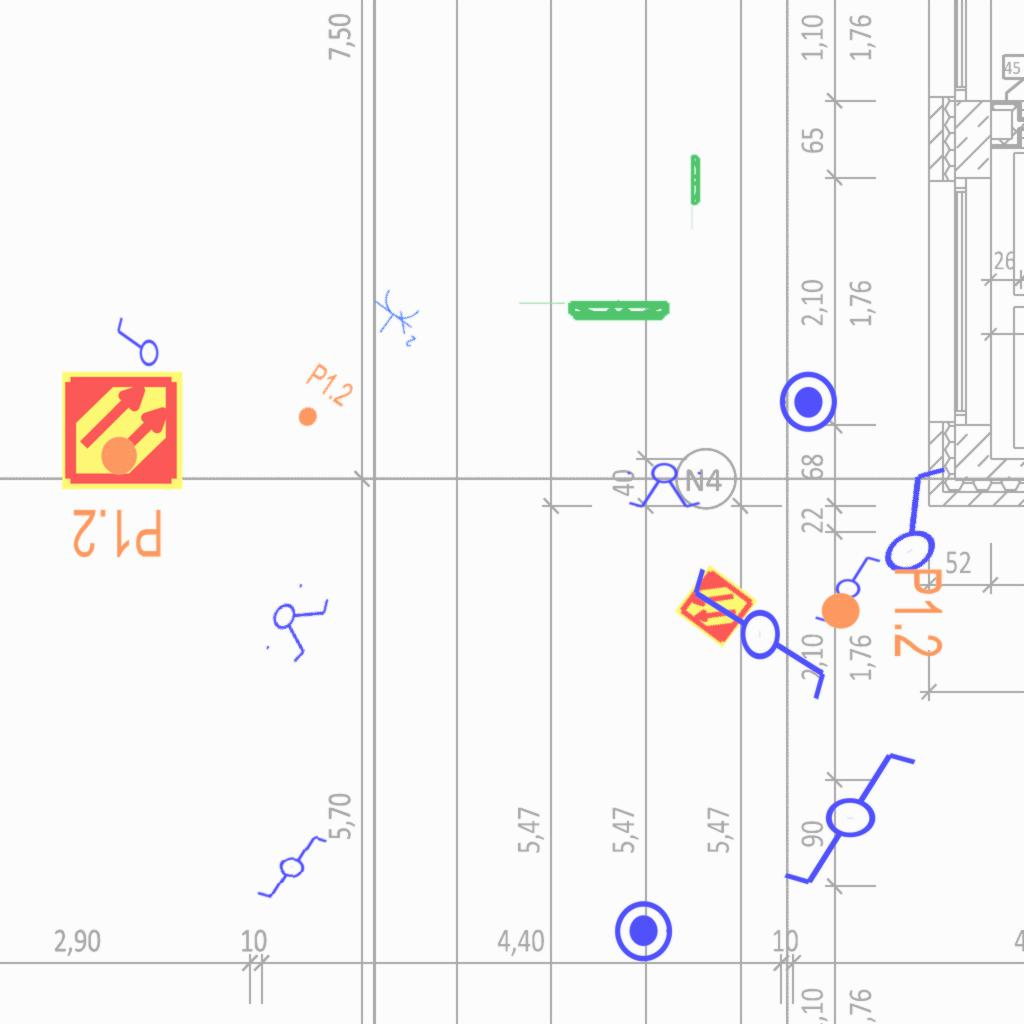ASR_Ansaugrauchmelder: (60, 368, 185, 493), (672, 562, 760, 650)
Ausschalter: (840, 450, 986, 590), (112, 316, 160, 372)
Downlight_LED_Einbauleuchten_Flur: (71, 433, 164, 561), (818, 566, 946, 659), (283, 360, 357, 440)
Schukosteckdose_mehrfach: (360, 283, 436, 355)
Serienschalter: (255, 573, 337, 671), (623, 462, 707, 510)
Sicherheitsleuchte_Wandeinbau: (514, 299, 673, 324), (690, 153, 702, 232)
Taster: (773, 369, 839, 435), (613, 898, 679, 964)
Wechselschalter: (780, 748, 937, 892), (686, 564, 830, 721), (246, 826, 330, 906), (813, 554, 891, 626)
